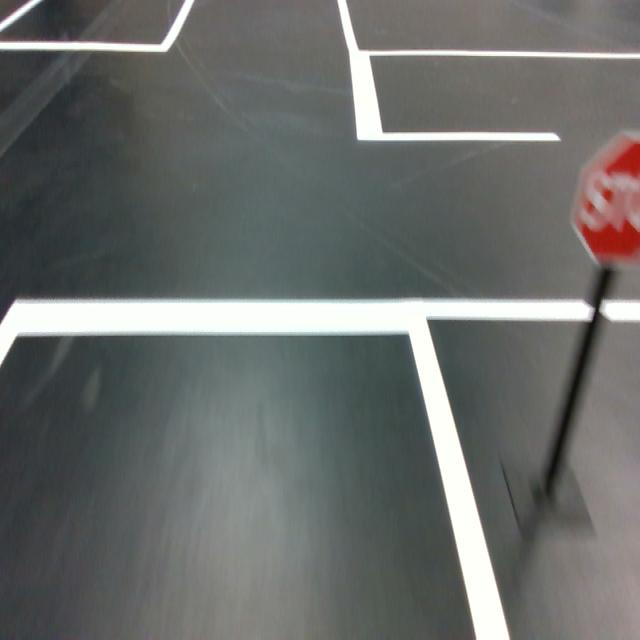stop-sign: (568, 128, 640, 274)
